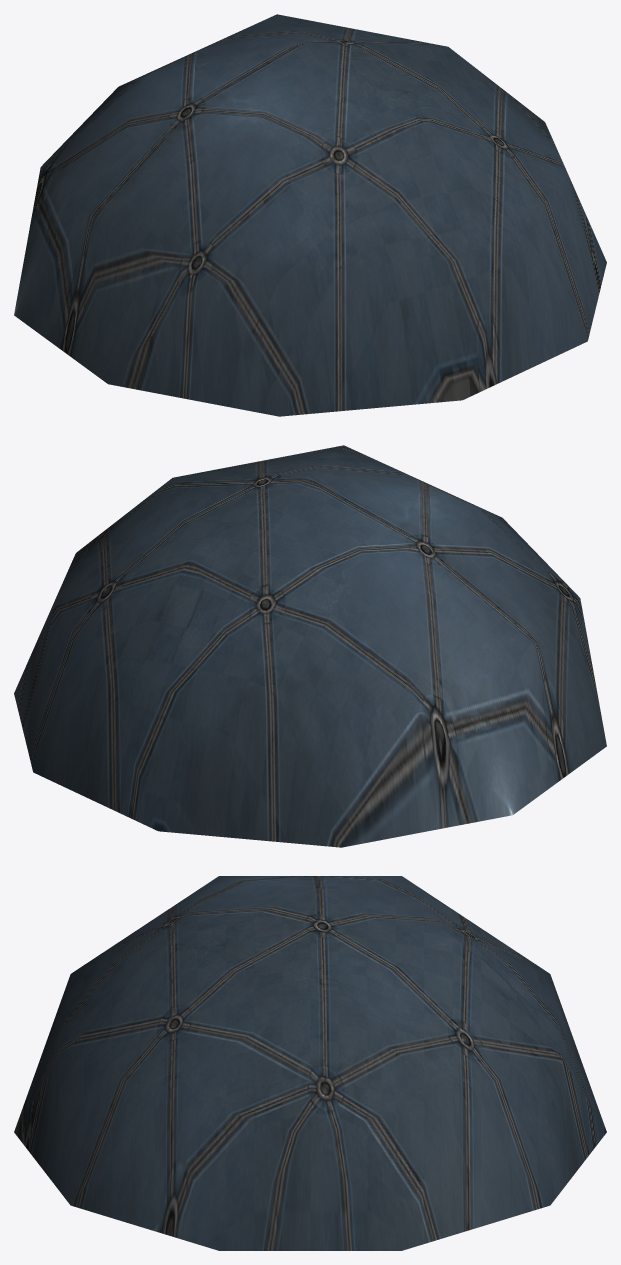
The model's file is lab_cupula.dae.
3 views of the same model, one above another, from view 1: azimuth 30°, elevation 25°; view 2: azimuth 150°, elevation 25°; view 3: azimuth 270°, elevation 25° (orthographic). The views are drawn at different scales.
Parts seen in each view (by area): view 1: lab_cupula; view 2: lab_cupula; view 3: lab_cupula.
Part boxes in pixels (left/top/right/bottom): lab_cupula: left=14, top=14, right=606, bottom=416; lab_cupula: left=14, top=445, right=606, bottom=847; lab_cupula: left=14, top=876, right=606, bottom=1250.
Size of the model in its own units: 19.33 by 20.42 by 9.07.
